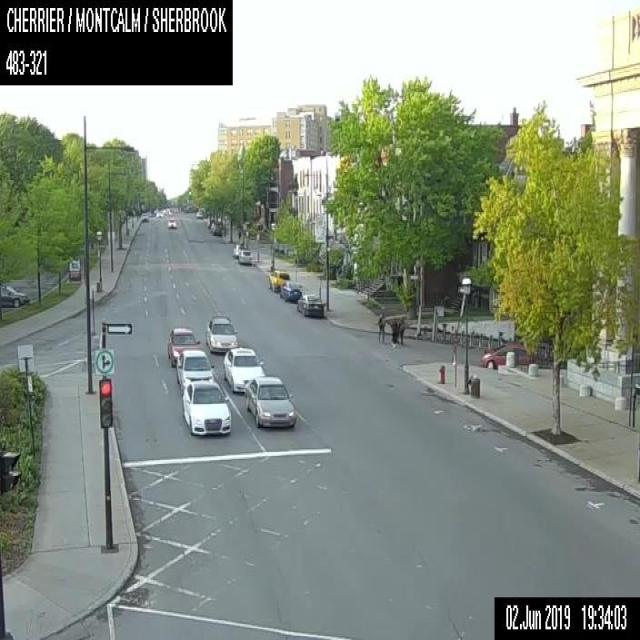pedestrian: (376, 311, 384, 341), (390, 318, 398, 344), (398, 316, 405, 344)
vehicle: (180, 380, 230, 435), (245, 375, 295, 428), (223, 347, 265, 393), (175, 348, 214, 385), (480, 343, 536, 368), (167, 326, 200, 367), (205, 315, 238, 353), (296, 294, 324, 318), (0, 285, 28, 307), (268, 269, 288, 292), (280, 280, 300, 300), (238, 248, 252, 264), (232, 244, 243, 257), (167, 216, 176, 228), (212, 223, 221, 234), (140, 212, 148, 222), (196, 210, 202, 218), (156, 211, 162, 217)
